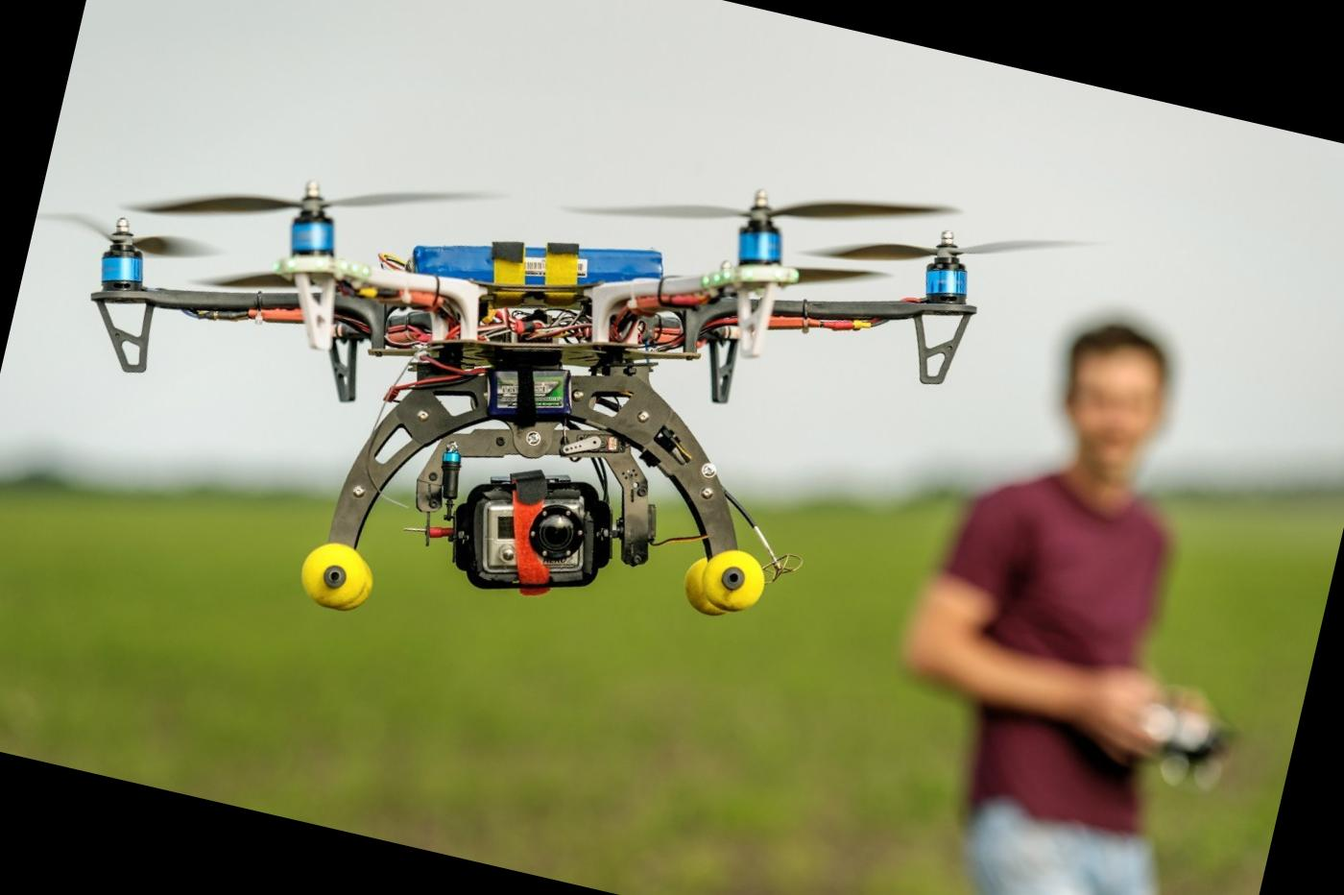drone: (41, 0, 1154, 602)
